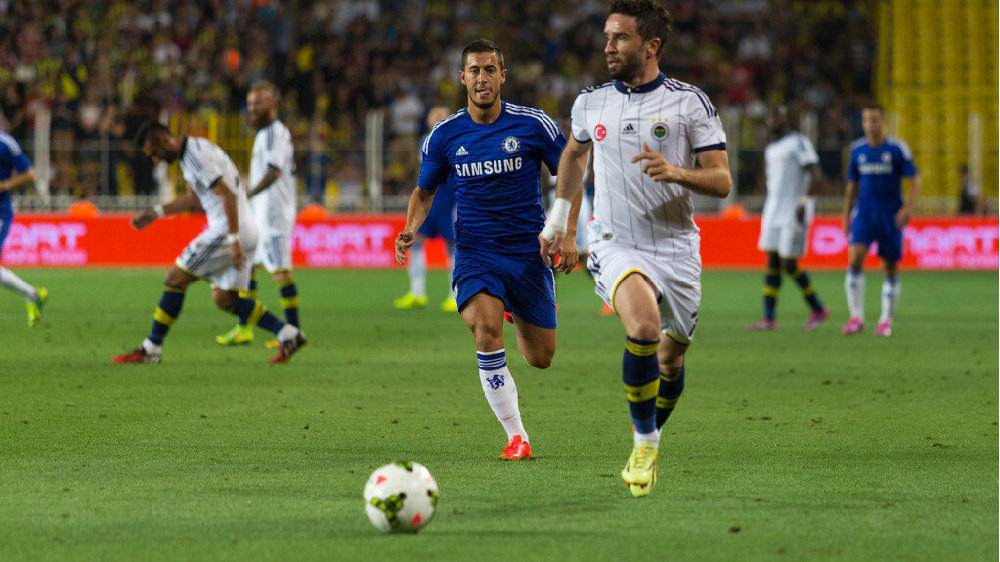football: (363, 458, 442, 536)
